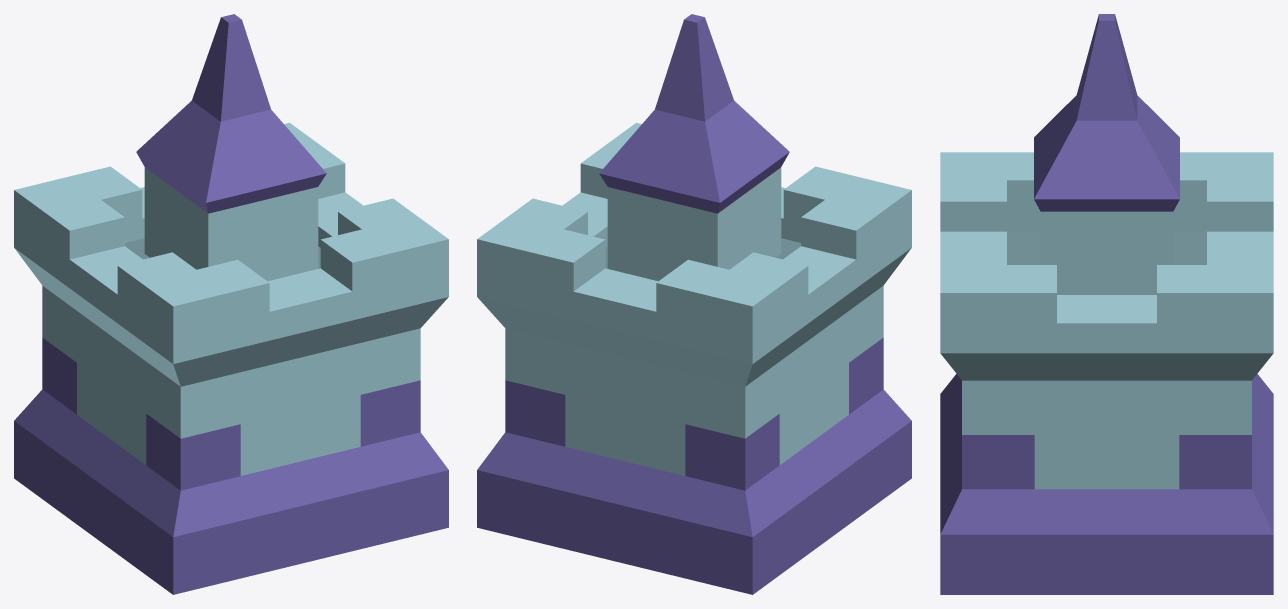
File: towersquare_samplec.fbx
3 renders of one model, left to right at view 1: azimuth 30°, elevation 25°; view 2: azimuth 150°, elevation 25°; view 3: azimuth 270°, elevation 25°, orthographic. The views are drawn at different scales.
Parts seen in each view (by area): view 1: towerSquare_sampleC; view 2: towerSquare_sampleC; view 3: towerSquare_sampleC.
Boxes of the visible parts, left/top/right/bottom form: towerSquare_sampleC: left=14, top=14, right=448, bottom=594; towerSquare_sampleC: left=477, top=14, right=911, bottom=594; towerSquare_sampleC: left=940, top=14, right=1273, bottom=594.
Bounding box in the file's own units: 10 × 16.8 × 10.
